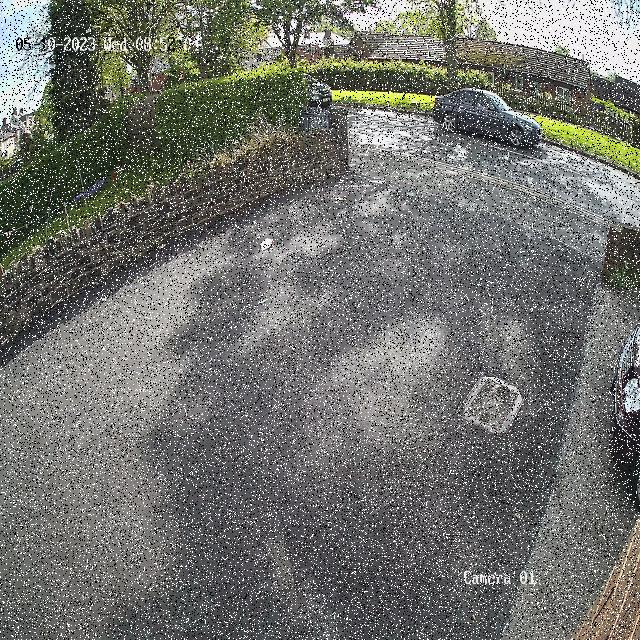vehicle: (425, 80, 543, 157), (301, 64, 334, 110)
